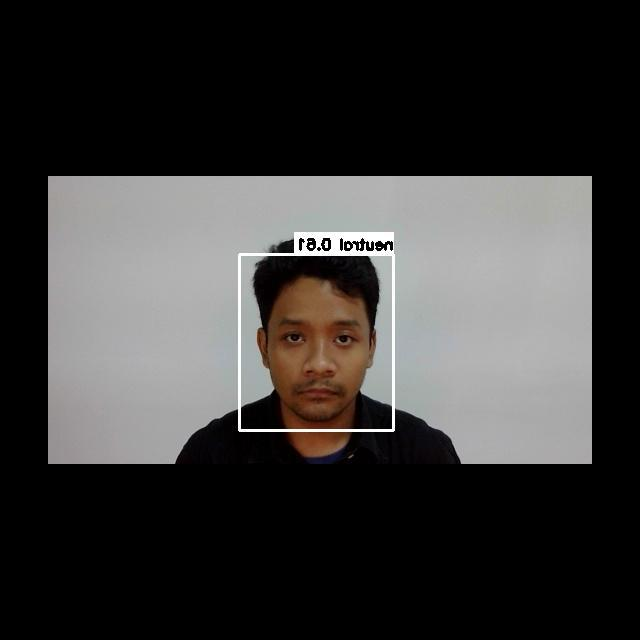Natural: (275, 312, 365, 407)
